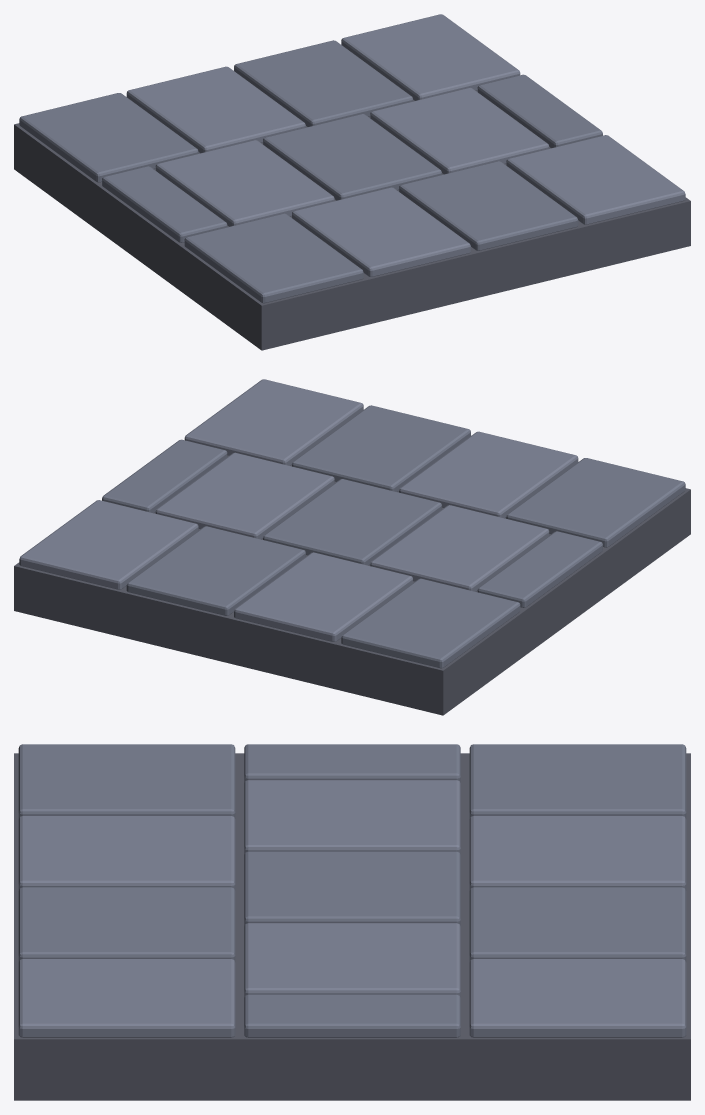
File: floor_roof_b.glb
3 views of the same model, one above another, from view 1: azimuth 30°, elevation 25°; view 2: azimuth 150°, elevation 25°; view 3: azimuth 270°, elevation 25° (orthographic). The views are drawn at different scales.
Visible parts, largest first — view 1: floor_roof_b; view 2: floor_roof_b; view 3: floor_roof_b.
Boxes of the visible parts, <box> form: floor_roof_b: <box>14,14,690,350</box>; floor_roof_b: <box>14,379,690,715</box>; floor_roof_b: <box>14,744,690,1100</box>.
Bounding box in the file's own units: 1 × 0.12 × 1.
